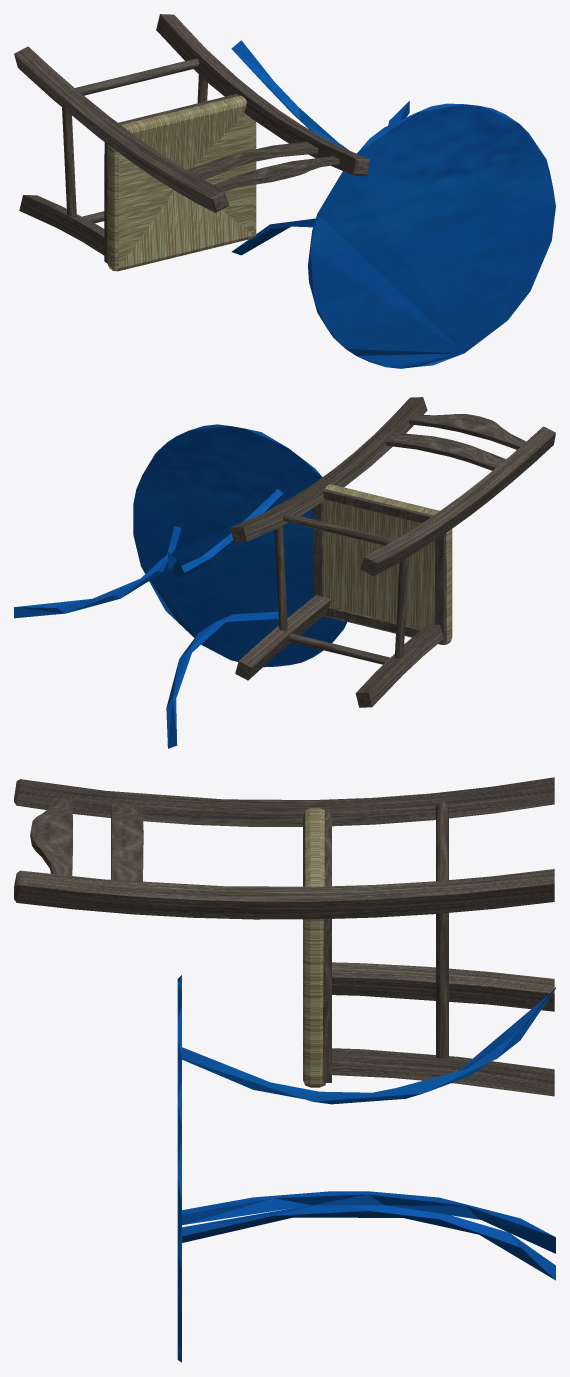
The model's file is tablechair752_wtf.obj.
The picture shows the model from 3 angles, top to bottom: view 1: azimuth 30°, elevation 25°; view 2: azimuth 150°, elevation 25°; view 3: azimuth 270°, elevation 25°; orthographic projection. The views are drawn at different scales.
Parts seen in each view (by area): view 1: group5, group3, group4; view 2: group5, group3, group4; view 3: group3, group5, group4.
Boxes of the visible parts, x1,y1,x2,y2 form: group5: (231,40,555,368); group3: (14,14,369,263); group4: (107,95,256,271); group5: (14,424,346,748); group3: (230,397,555,707); group4: (323,484,452,644); group3: (14,777,554,1096); group5: (177,975,555,1362); group4: (303,808,325,1087).
Bounding box in the file's own units: 660 × 442 × 562.
